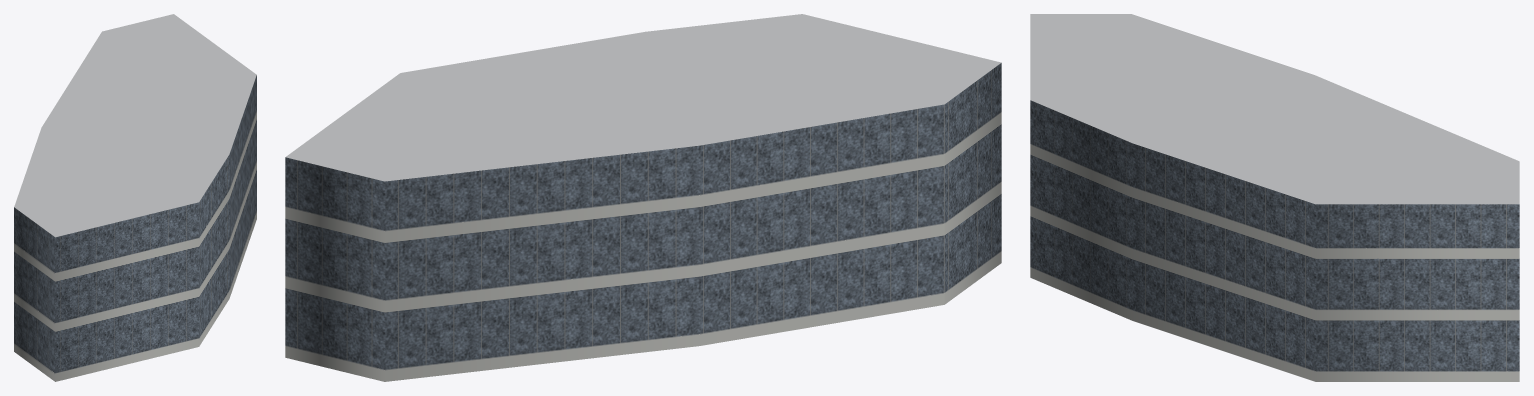
The model's file is bldg_far_04.glb.
The picture shows the model from 3 angles, left to right: view 1: azimuth 30°, elevation 25°; view 2: azimuth 150°, elevation 25°; view 3: azimuth 270°, elevation 25°; orthographic projection. The views are drawn at different scales.
Parts seen in each view (by area): view 1: bldg_far_04.facade, bldg_far_04.roof; view 2: bldg_far_04.facade, bldg_far_04.roof; view 3: bldg_far_04.facade, bldg_far_04.roof.
Part boxes in pixels (<box>): bldg_far_04.facade: <box>14,75,256,381</box>; bldg_far_04.roof: <box>14,14,256,237</box>; bldg_far_04.facade: <box>285,63,1001,381</box>; bldg_far_04.roof: <box>285,14,1001,181</box>; bldg_far_04.facade: <box>1030,100,1519,381</box>; bldg_far_04.roof: <box>1030,14,1519,204</box>.
Size of the model in its own units: 26.52 by 11.53 by 28.79.
2 materials, 1 textured.
